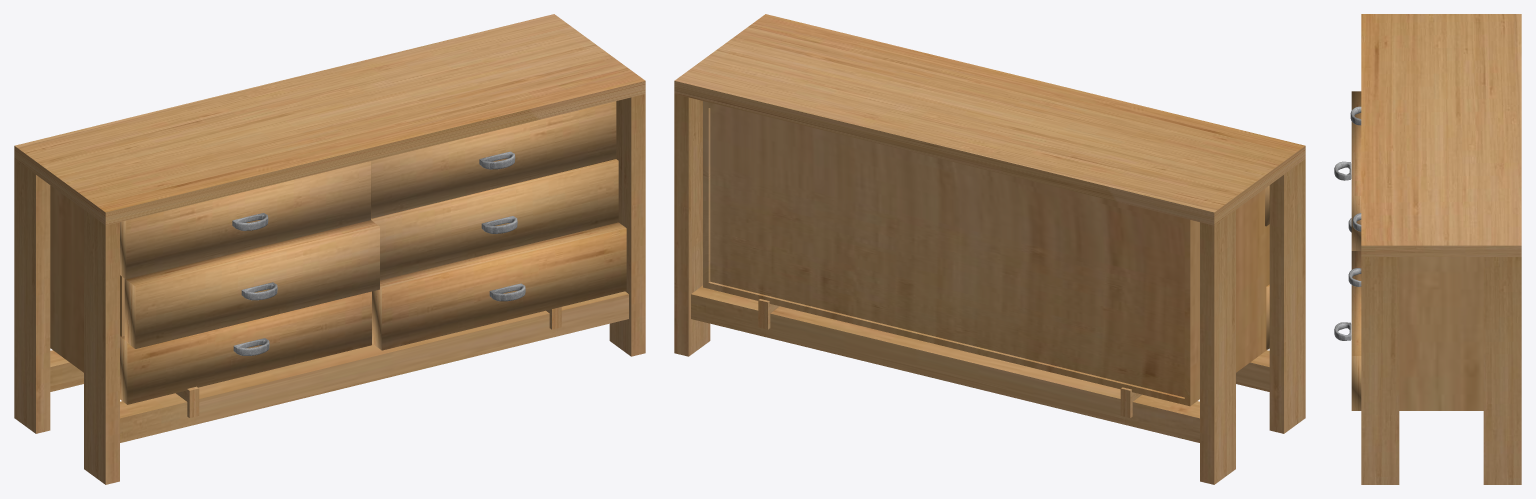
The model's file is comoda.glb.
3 views of the same model, side by side, from view 1: azimuth 30°, elevation 25°; view 2: azimuth 150°, elevation 25°; view 3: azimuth 270°, elevation 25° (orthographic). The views are drawn at different scales.
Parts seen in each view (by area): view 1: Cube.001, cajon.003, cajon.002, cajon, cajon.001, cajon.004; view 2: Cube.001; view 3: Cube.001, cajon.003.
Part boxes in pixels (x1,y1,x2,y2): Cube.001: (14,14,645,484); cajon.003: (124,220,626,350); cajon.002: (371,159,618,280); cajon: (120,161,370,279); cajon.001: (371,101,616,218); cajon.004: (120,291,371,404); Cube.001: (674,14,1305,484); Cube.001: (1361,14,1521,484); cajon.003: (1334,91,1361,410).
Size of the model in its own units: 7.07 by 3.41 by 2.42.
Materials: 3 (3 with a texture image).
